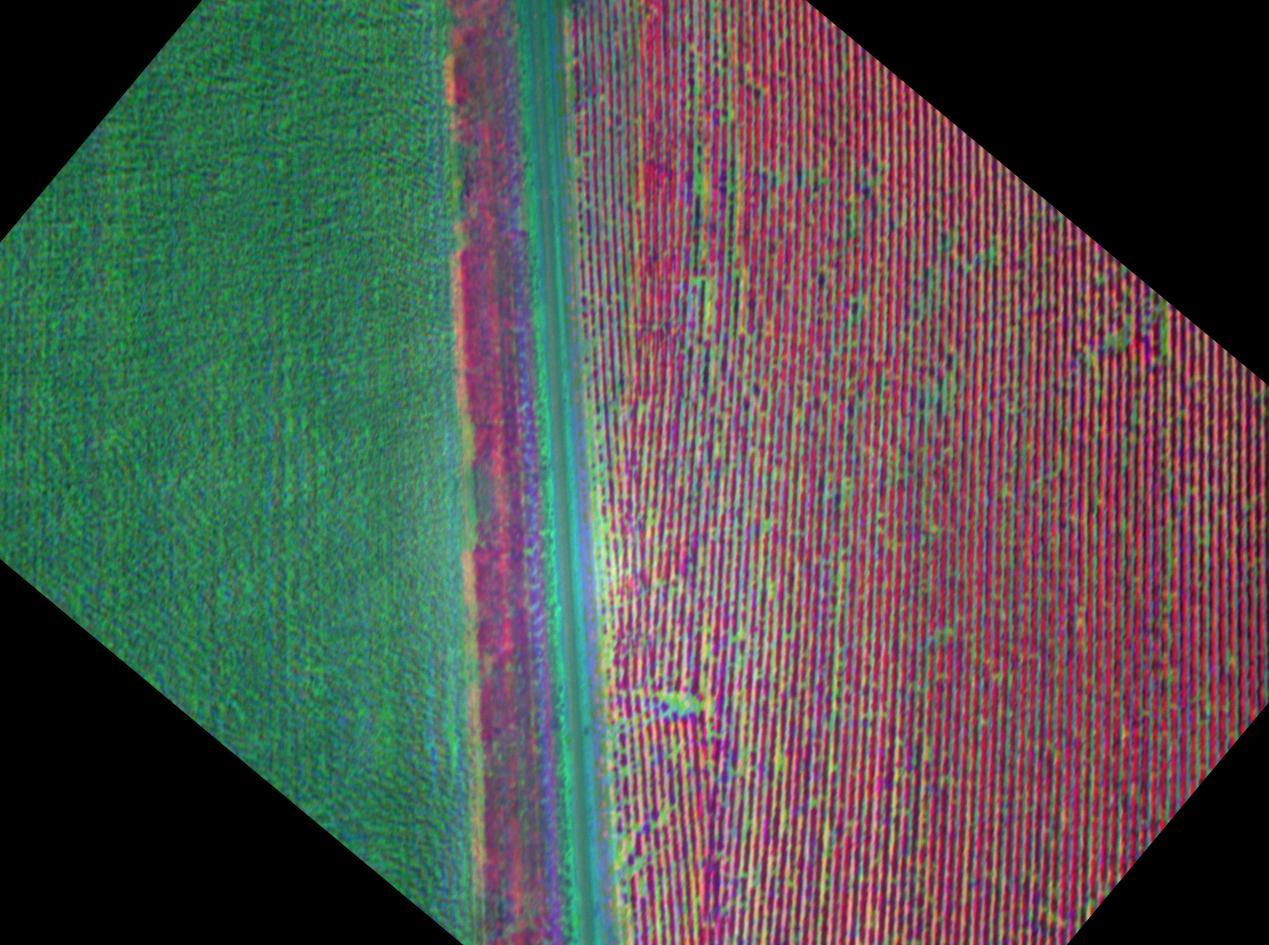dc: (639, 882, 643, 889), (1112, 339, 1117, 344), (667, 698, 672, 703), (661, 817, 666, 822), (689, 703, 694, 707), (739, 753, 743, 758), (938, 529, 941, 532), (774, 594, 776, 597)
